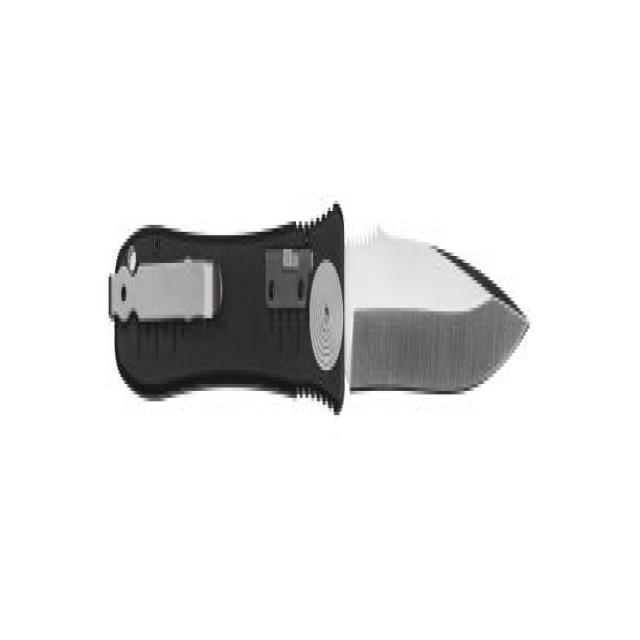knife: (102, 176, 535, 453)
